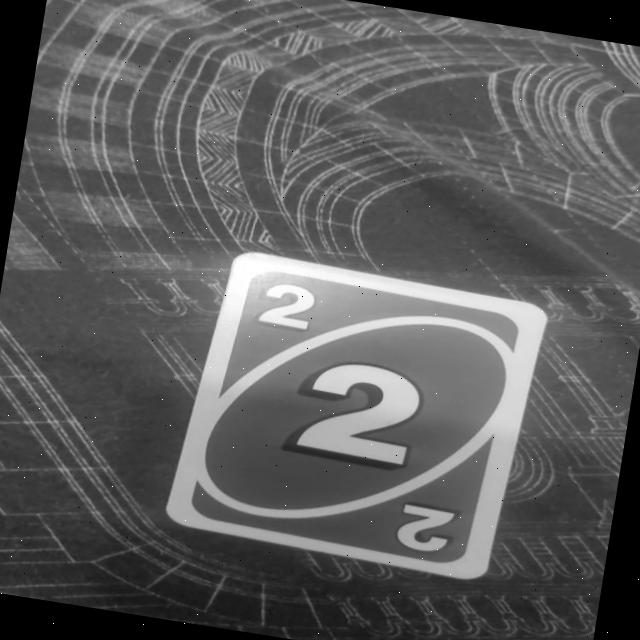card_2: (160, 243, 550, 586)
